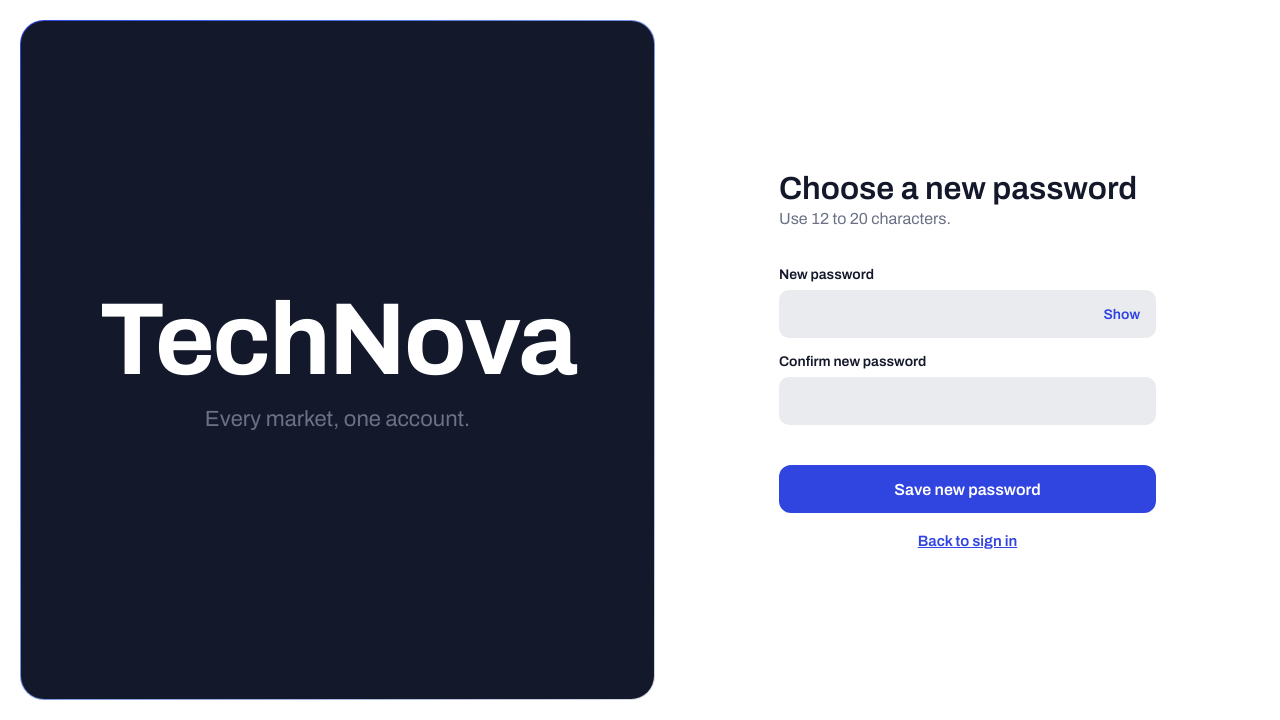
Test: ResetPasswordComponent › requires both fields
What coordinates should you click on to do the following:
click the submit button
I would click on:
 (968, 489)
Its box is [779, 465, 1156, 513].
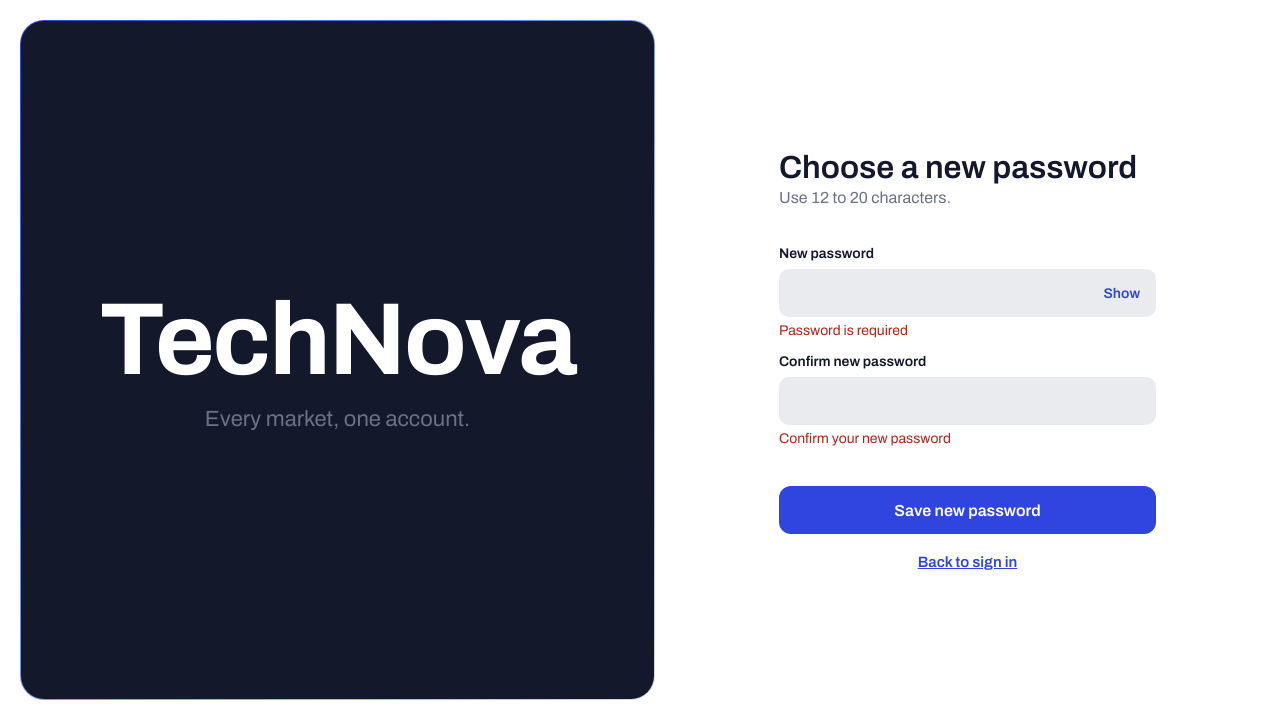
Now the text "Password is required" is shown, box [779, 323, 908, 338]
Now the text "Confirm your new password" is shown, box [779, 431, 951, 446]
